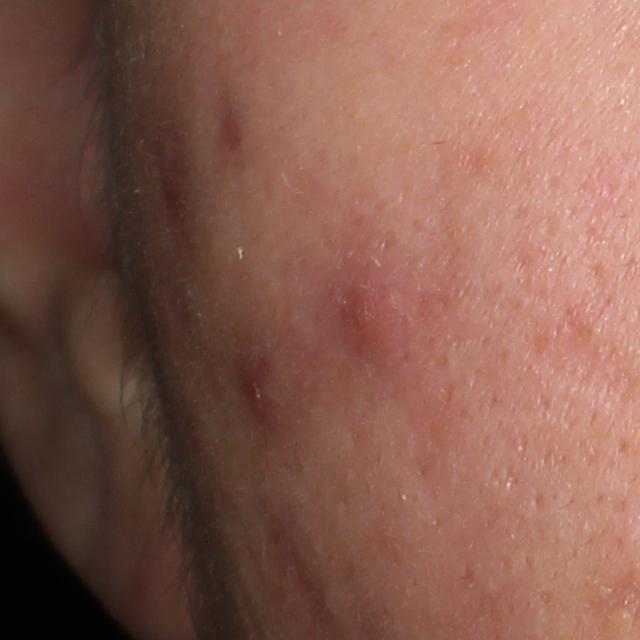papule: (325, 275, 410, 359), (228, 345, 298, 432)
